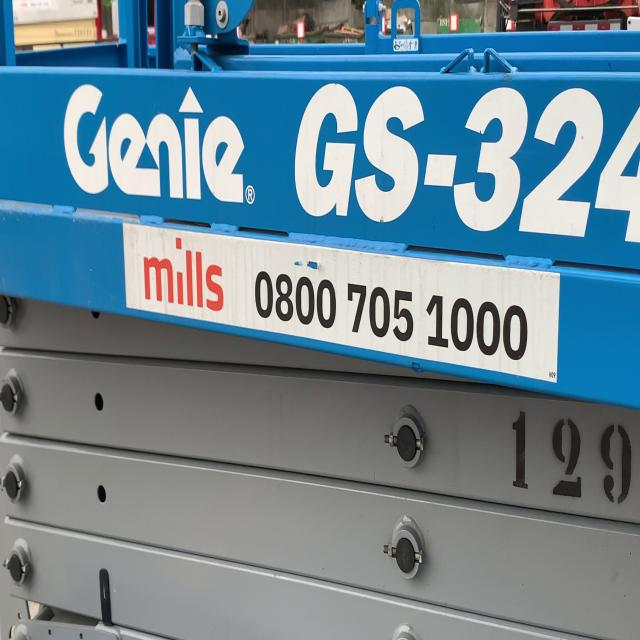Adesivo Longo: (120, 218, 563, 387)
